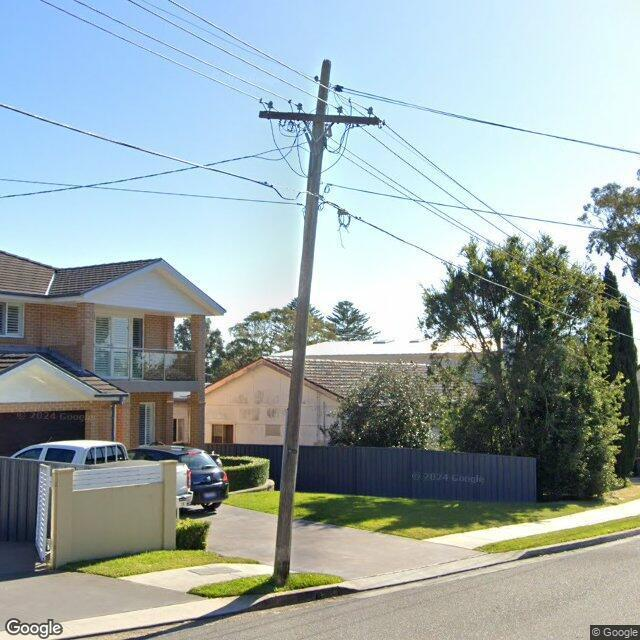crossarm: (257, 109, 383, 127)
timber-pole: (271, 57, 334, 589)
